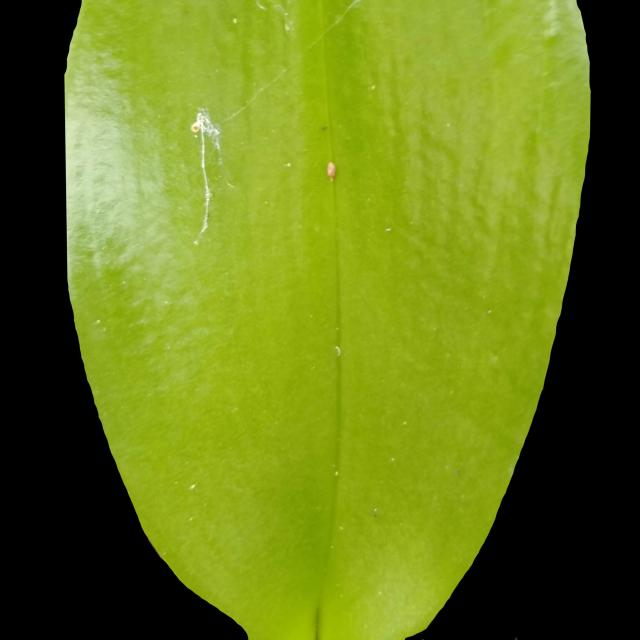mite: (316, 120, 340, 184), (358, 494, 395, 532), (179, 474, 203, 529), (182, 475, 202, 497), (314, 118, 333, 137), (328, 340, 345, 361), (367, 502, 383, 523), (379, 220, 396, 237), (189, 120, 202, 135), (332, 344, 342, 358), (332, 464, 341, 479), (187, 480, 198, 492), (370, 506, 380, 519), (318, 123, 329, 133), (186, 513, 196, 524), (387, 454, 397, 464), (383, 225, 393, 234), (320, 125, 328, 130)
spots: (63, 1, 592, 636)
